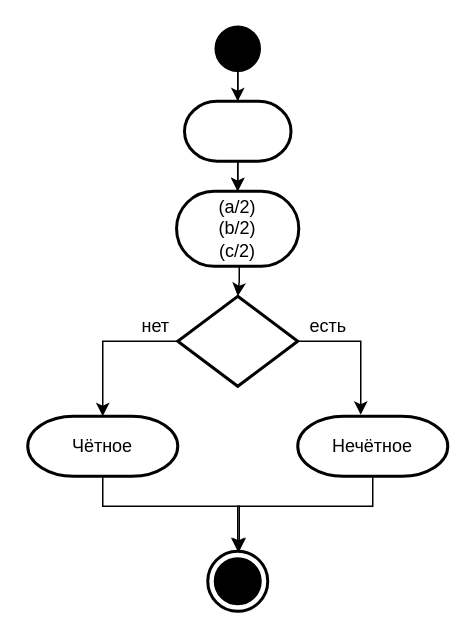
Image size: 474x639. Some labels were removed from this diagram. The shapes that lost their labels are listed below. From the top down, each one's centre as x and y in pixels, then its label:
point 237,130: Ввод a,b,c
point 237,340: Остаток
